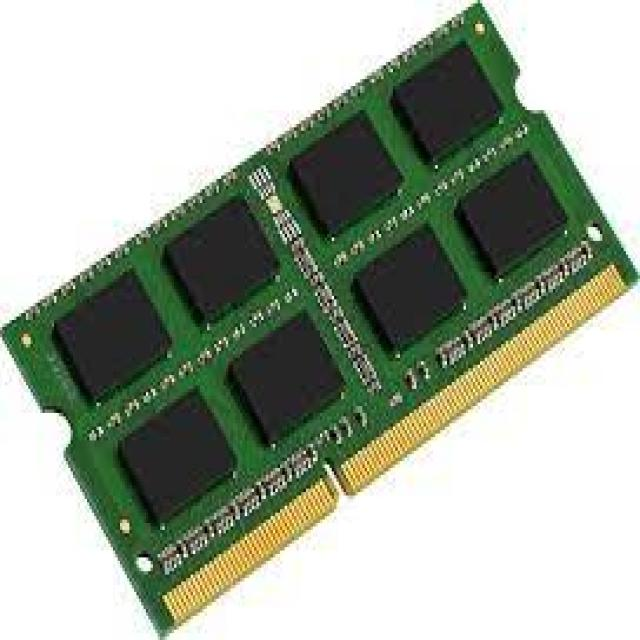Ram: (57, 54, 556, 578)
